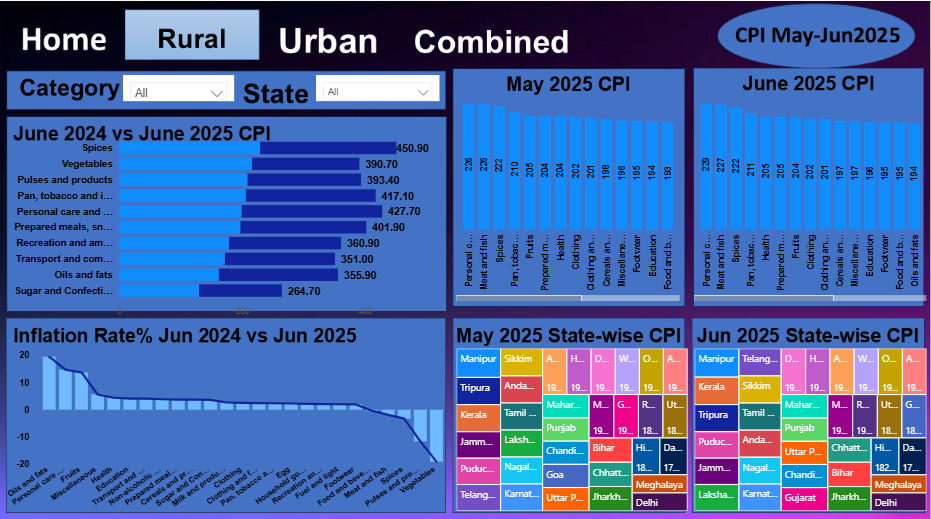

Layout of this report page (visuals, bound fields, positions):
{"tool":"powerbi","page":{"name":"Rural Dashboard","canvas":[1280,720],"ordinal":1},"visuals":[{"type":"barChart","fields":{"Y":["Sum(Annex-II.Rural_June_2024_CPI)","Sum(Annex-II.Rural_June_2025_CPI)"],"Category":["Annex-II.Category"]},"box":[0,171.6,605,273.2],"z":0},{"type":"lineStackedColumnComboChart","fields":{"Category":["Annex-II.Category"],"Y":["Sum(Annex-II.Rural_Inflation_Rate%)"],"Y2":["Sum(Annex-II.Rural_Inflation_Rate%)"]},"box":[0,473.4,623.6,233.1],"z":1000},{"type":"clusteredColumnChart","fields":{"Category":["Annex-I.Category"],"Y":["Sum(Annex-I.Rural_May_2025_CPI)"]},"box":[623.6,105.8,317.5,311.8],"z":2000},{"type":"clusteredColumnChart","fields":{"Y":["Sum(Annex-I.Rural_June_2025_CPI)"],"Category":["Annex-I.Category"]},"box":[951.1,105.8,328.9,311.8],"z":3000},{"type":"treemap","fields":{"Values":["Sum(Annex-III.Rural_May_2025_CPI)"],"Group":["Annex-III.State/UT"]},"box":[623.6,473.4,327.5,233.1],"z":4000},{"type":"treemap","fields":{"Values":["Sum(Annex-III.Rural_June_2025_CPI)"],"Group":["Annex-III.State/UT"]},"box":[951.1,473.4,328.9,233.1],"z":5000},{"type":"slicer","fields":{"Values":["Annex-II.Category"]},"box":[168.8,101.5,153,35.8],"z":6000},{"type":"slicer","fields":{"Values":["Annex-III.State/UT"]},"box":[434.8,101.5,170.2,35.8],"z":7000},{"type":"actionButton","box":[24.3,18.6,131.6,57.2],"z":8000},{"type":"actionButton","box":[373.3,18.6,161.6,57.2],"z":9000},{"type":"actionButton","box":[567.8,27.2,220.2,58.6],"z":10000}]}

Visuals, with their boxes in screenshot pixels (x1, y1, x2, y2), scaled from the page's 1280x720 canvas onto the 931x519 screenshot:
barChart - Sum(Annex-II.Rural_June_2024_CPI) x Sum(Annex-II.Rural_June_2025_CPI): bbox=[0, 124, 440, 321]
lineStackedColumnComboChart - Annex-II.Category x Sum(Annex-II.Rural_Inflation_Rate%): bbox=[0, 341, 454, 509]
clusteredColumnChart - Annex-I.Category x Sum(Annex-I.Rural_May_2025_CPI): bbox=[454, 76, 685, 301]
clusteredColumnChart - Sum(Annex-I.Rural_June_2025_CPI) x Annex-I.Category: bbox=[692, 76, 930, 301]
treemap - Sum(Annex-III.Rural_May_2025_CPI) x Annex-III.State/UT: bbox=[454, 341, 692, 509]
treemap - Sum(Annex-III.Rural_June_2025_CPI) x Annex-III.State/UT: bbox=[692, 341, 930, 509]
slicer - Annex-II.Category: bbox=[123, 73, 234, 99]
slicer - Annex-III.State/UT: bbox=[316, 73, 440, 99]
actionButton: bbox=[18, 13, 113, 55]
actionButton: bbox=[272, 13, 389, 55]
actionButton: bbox=[413, 20, 573, 62]
